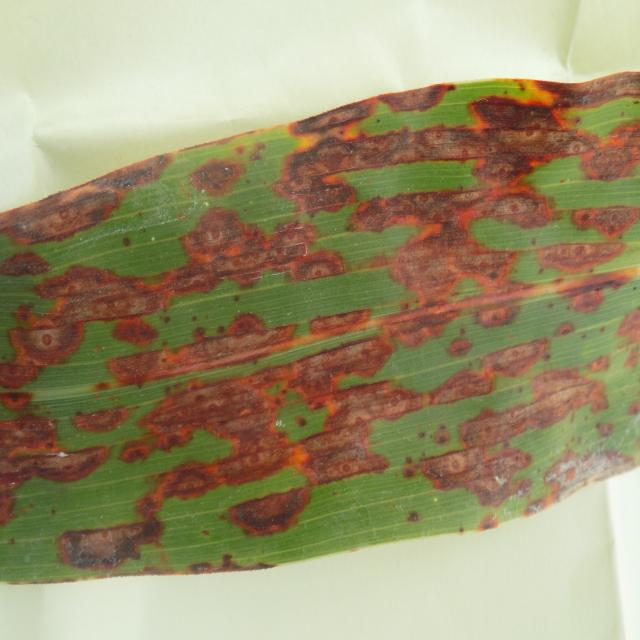millet_rust: (0, 62, 640, 589)
